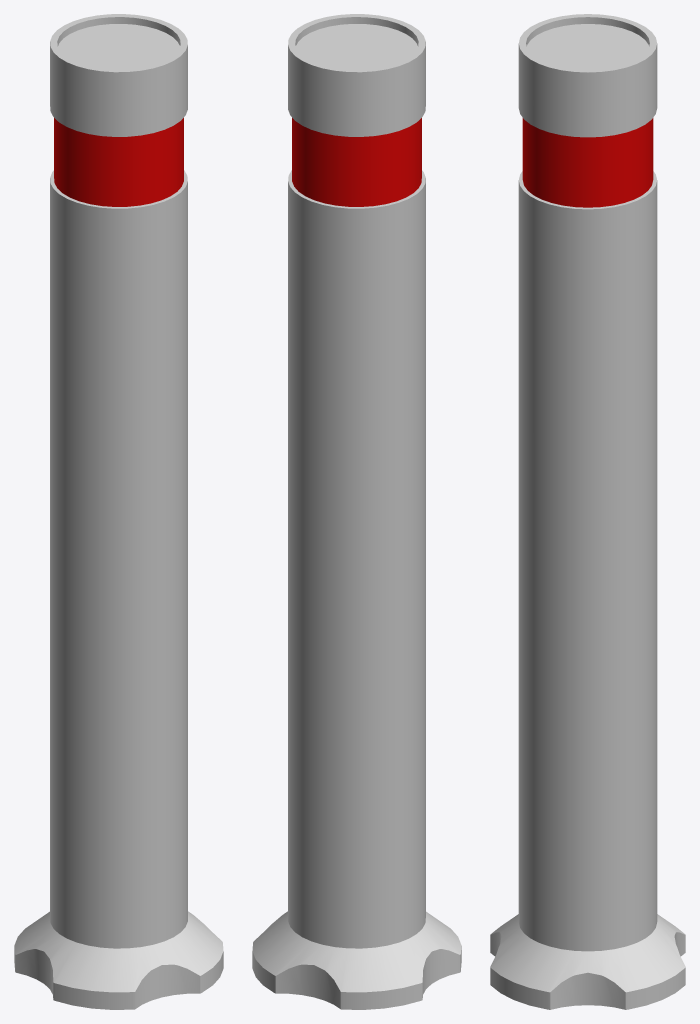
Rendered from sci fi path light pole.fbx.
3 views of the same model, side by side, from view 1: azimuth 30°, elevation 25°; view 2: azimuth 150°, elevation 25°; view 3: azimuth 270°, elevation 25° (orthographic).
Visible parts, largest first — view 1: small light pole.001, small light pole; view 2: small light pole.001, small light pole; view 3: small light pole.001, small light pole.
Boxes of the visible parts, x1,y1,x2,y2 form: small light pole.001: [50, 14, 187, 948]; small light pole: [14, 911, 223, 1009]; small light pole.001: [288, 14, 425, 948]; small light pole: [252, 911, 461, 1009]; small light pole.001: [518, 14, 657, 951]; small light pole: [490, 914, 685, 1009].
Bounding box in the file's own units: 283 × 1475 × 283.
